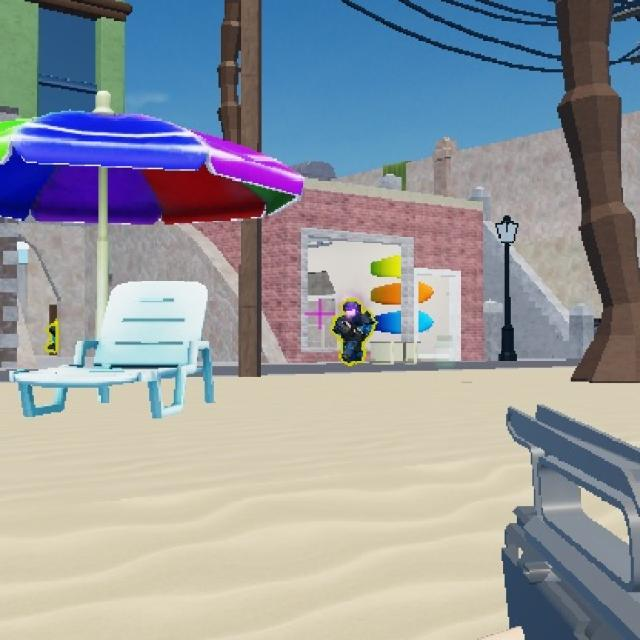player: (330, 294, 375, 368), (46, 317, 64, 358)
